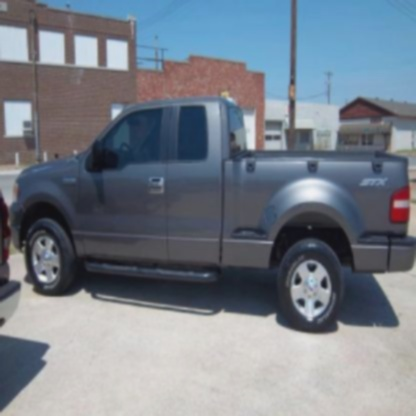Vehicle: (12, 97, 416, 334)
